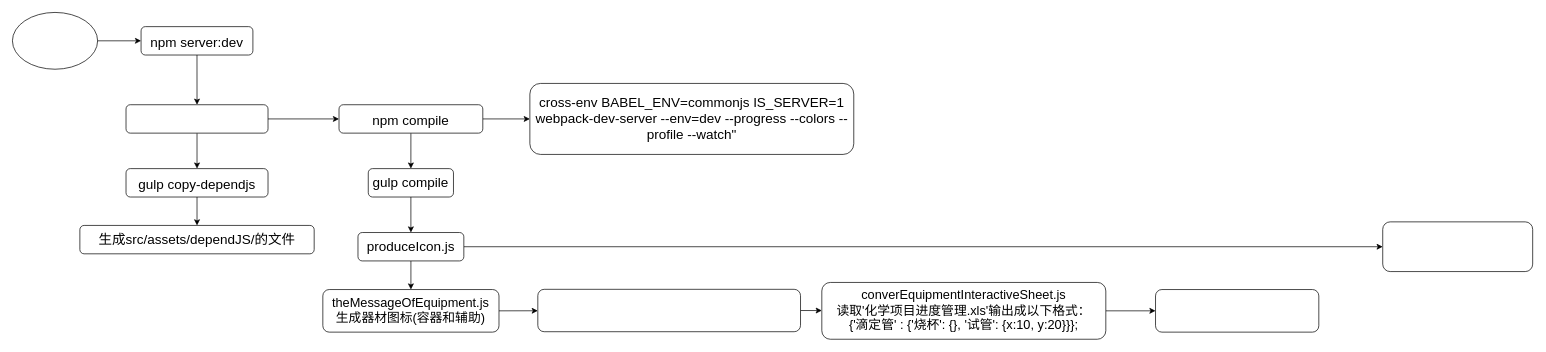
The diagram is 1546 pixels wide and 352 high, and some of its shapes have lost their labels. Each missing label, with the centre of its shape:
"convertXLS2JSON.js 生成药品的json和通过读取药品表生成json" goes at point (669, 310).
"generate_config_file.js 自动生成配置文件" goes at point (1457, 246).
"npm copy:dependjs" goes at point (196, 118).
"npm start" goes at point (55, 40).
"produceCompositeTest.js 生成组合实验" goes at point (1237, 310).
